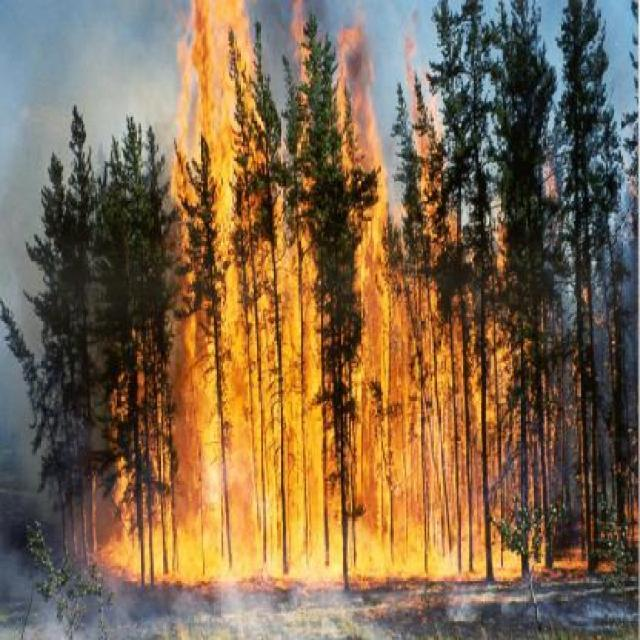Fire: (177, 0, 257, 585), (338, 242, 422, 588), (278, 237, 342, 583), (426, 330, 503, 526), (384, 300, 424, 580), (334, 25, 384, 173), (423, 526, 522, 582), (112, 522, 174, 584), (289, 0, 317, 91), (362, 176, 398, 244), (152, 424, 172, 508), (551, 554, 614, 578), (274, 184, 288, 233), (113, 458, 127, 504), (301, 183, 310, 244), (96, 542, 112, 570)
